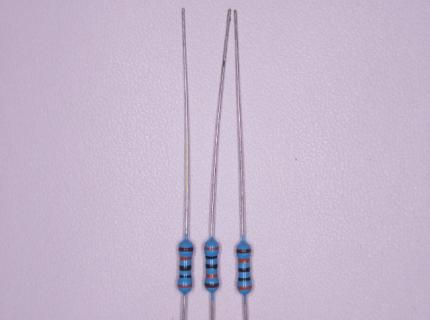Black band: (205, 263, 218, 269), (179, 265, 191, 271), (237, 277, 251, 282), (205, 255, 218, 260), (238, 267, 251, 272), (179, 274, 192, 278)
Brown band: (178, 247, 193, 252), (204, 283, 219, 288), (236, 249, 251, 253)
Orange band: (237, 285, 253, 290), (178, 283, 193, 288), (179, 256, 192, 261), (204, 247, 219, 251), (238, 258, 250, 263), (205, 274, 218, 278)
